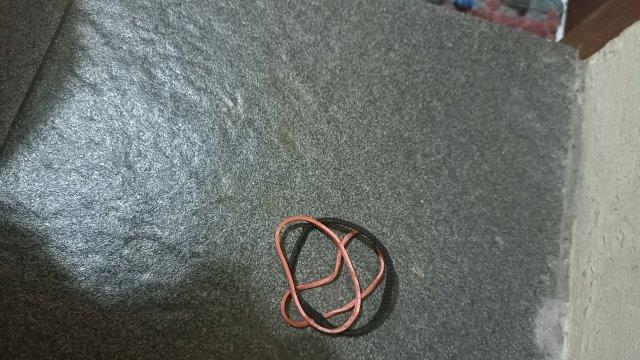karet: (274, 215, 395, 338)
